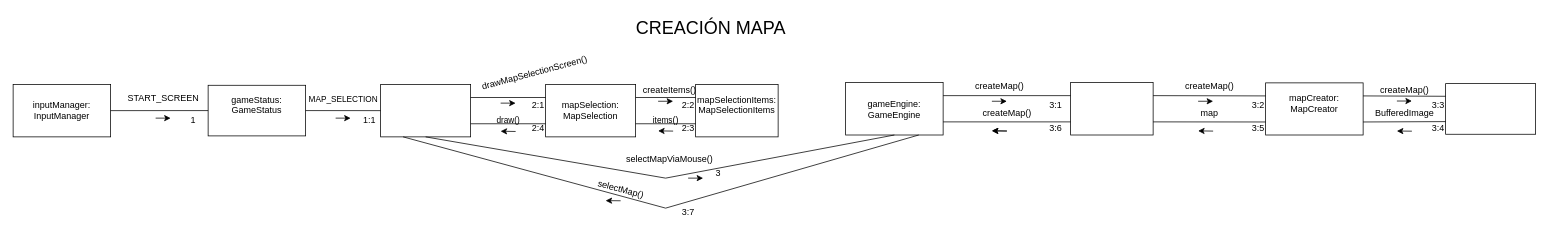
Some shapes in this 1549 by 236 pixel diagram are drawn without their labels. The centre of each missing label's shape, as x and y in pixels:
"imageLoader: ImageLoader" belongs at pixel 1490 108.
"mapManager: MapManager" belongs at pixel 1111 108.
"uiManager: UIManager" belongs at pixel 425 110.
